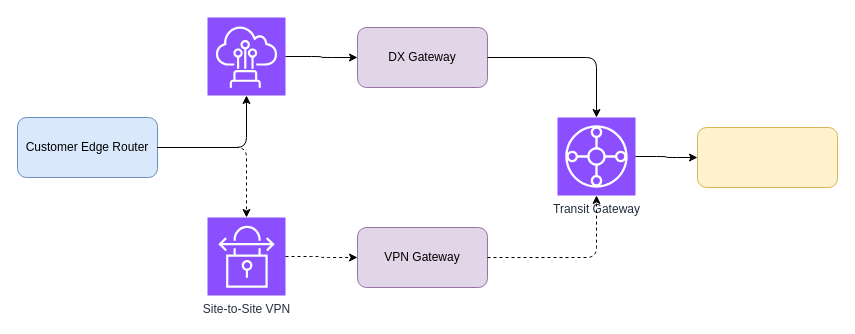
Image size: 855x334. Some labels were removed from this diagram. The centre of each missing label's shape, as x and y in pixels:
"Direct Connect" belongs at (246,56).
"Transit Route Table" belongs at (767,157).
